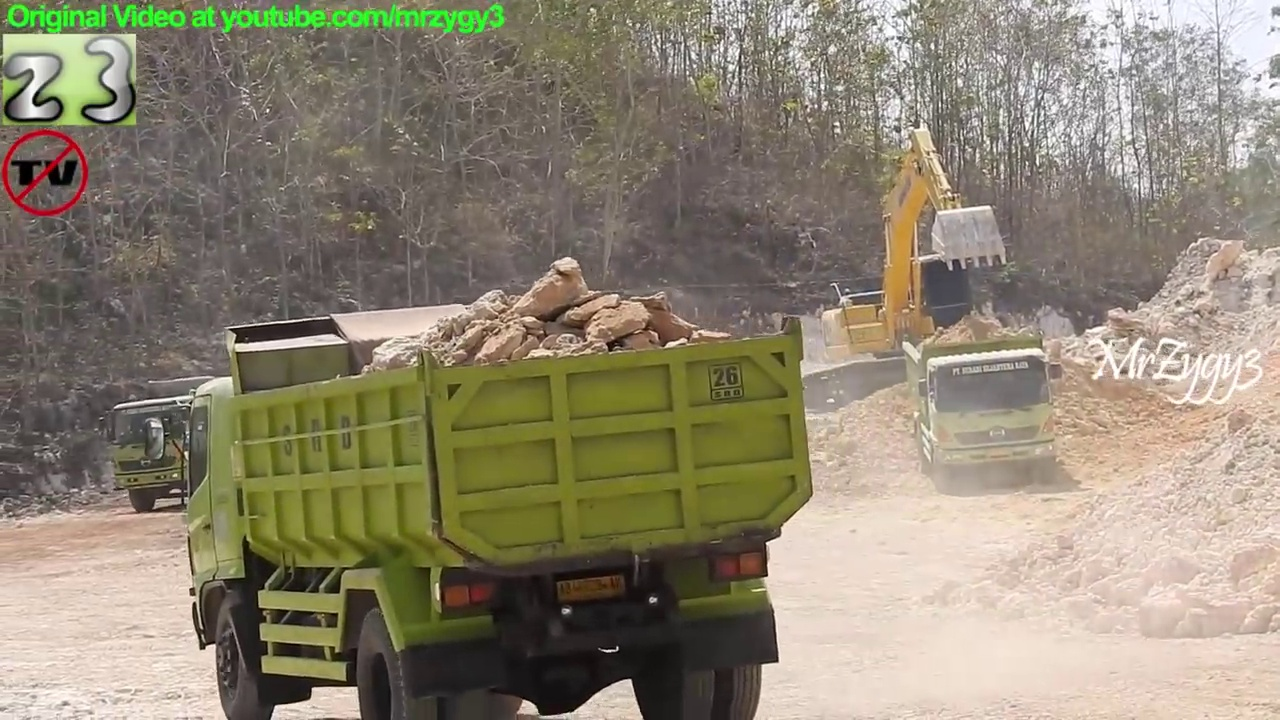excavator: (793, 116, 1048, 424)
truck: (141, 302, 818, 720), (96, 375, 351, 516), (893, 326, 1071, 493)
